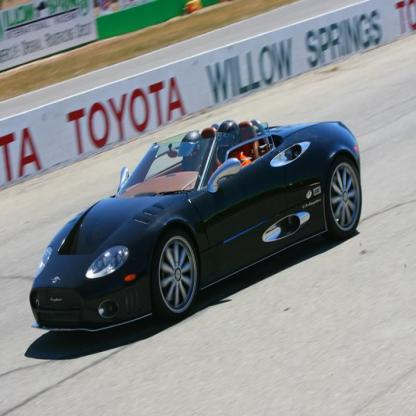Vehicle: (29, 119, 363, 333)
